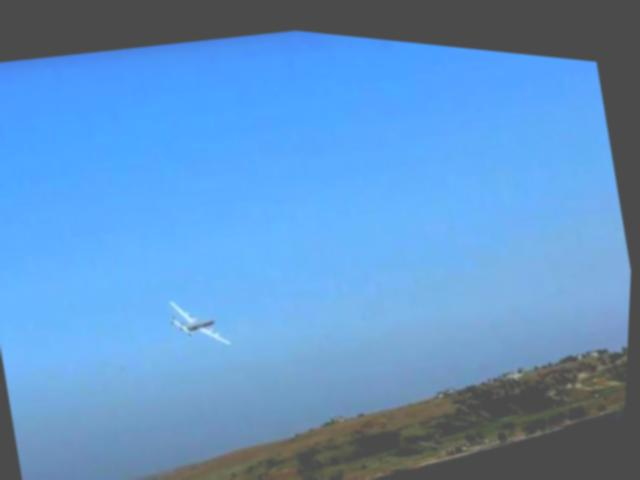iha: (167, 281, 236, 351)
